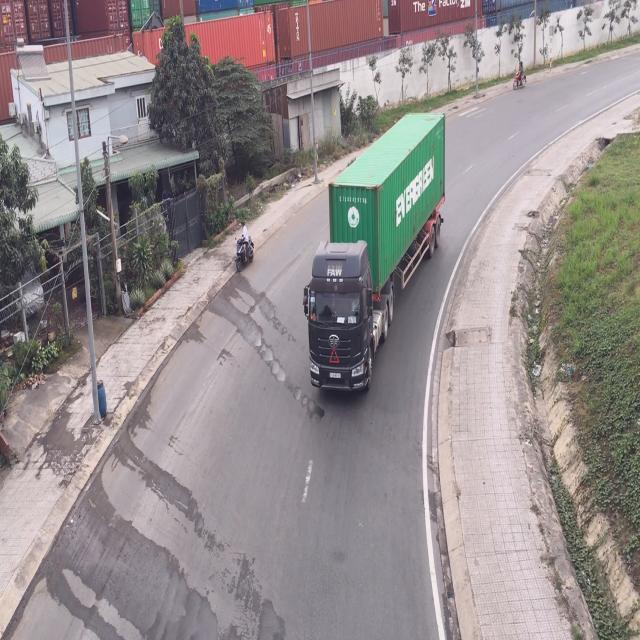motorbike: (235, 224, 256, 274), (514, 51, 529, 92)
truck: (307, 113, 449, 399)
